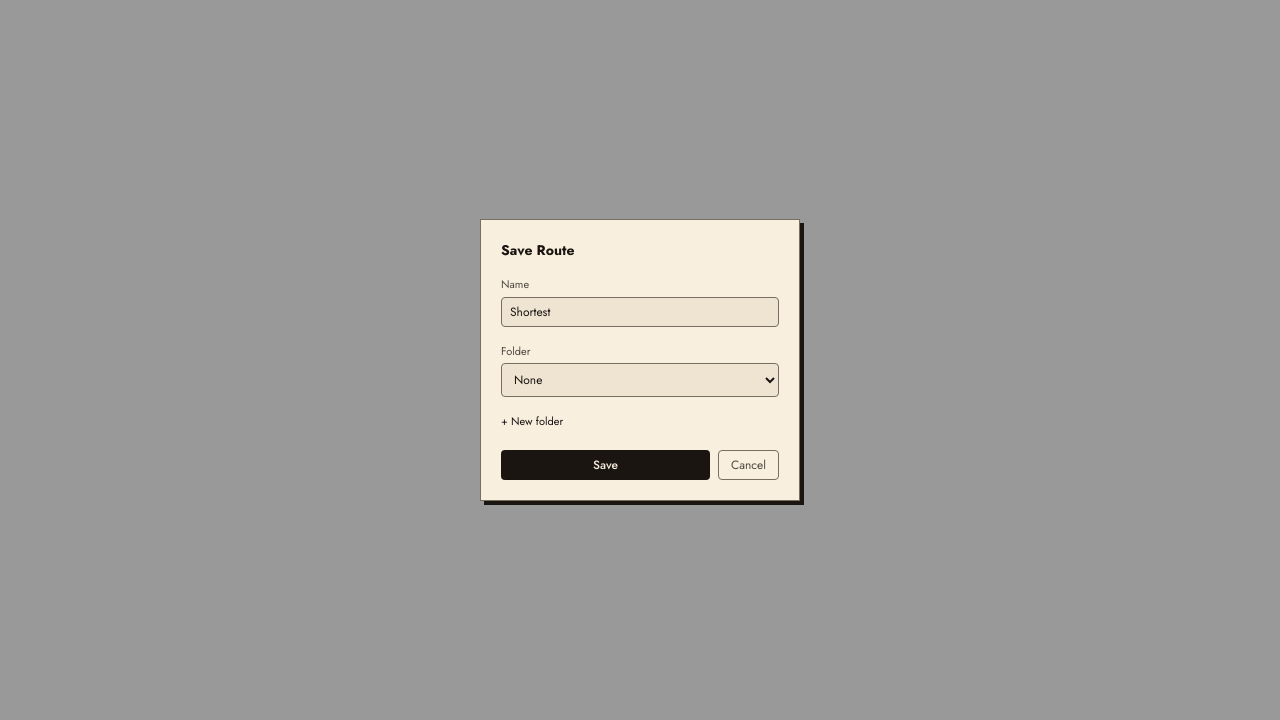
Test: SaveRouteModal when storage refuses the write › keeps the dialog open and says why the route was not saved
Click the button "Save": click(606, 465) [501,450,710,480]
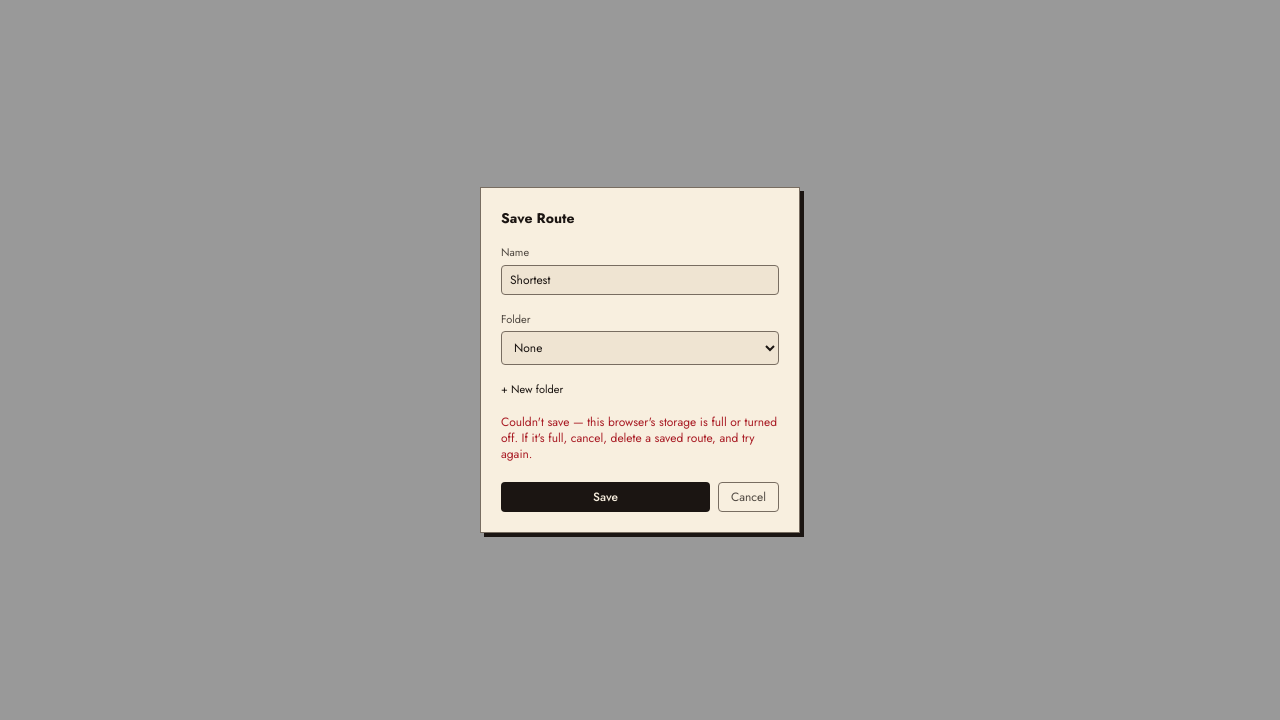
Expected: the button "Save" is shown, [501,482,710,512]
Expected: the message shows "storage is full", [501,413,777,463]
